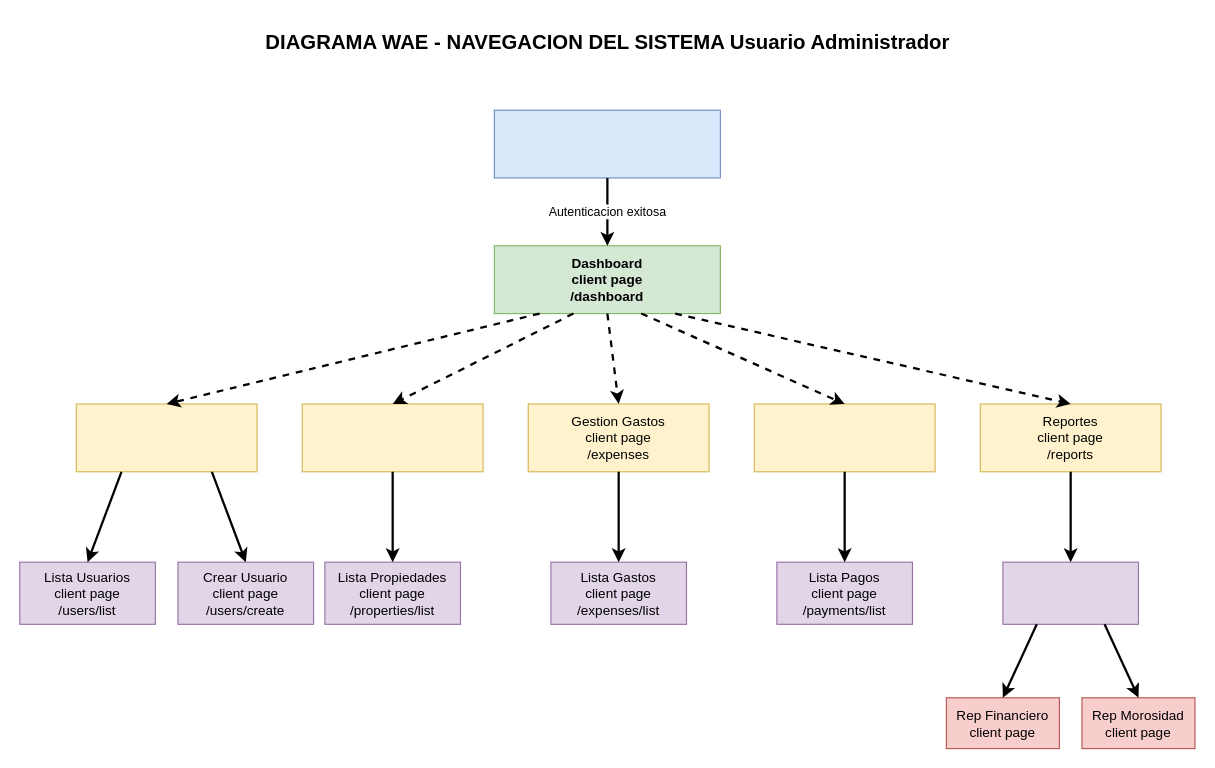
Image size: 1215x768. Some labels were removed from this diagram. Each missing label, with the centre of its shape:
"Gestion Pagos client page /payments" belongs at (844,437).
"Gestion Propiedades client page /properties" belongs at (392,437).
"Gestion Usuarios client page /users" belongs at (166,437).
"Login client page /login" belongs at (606,143).
"Menu Reportes client page /reports/menu" belongs at (1070,592).
